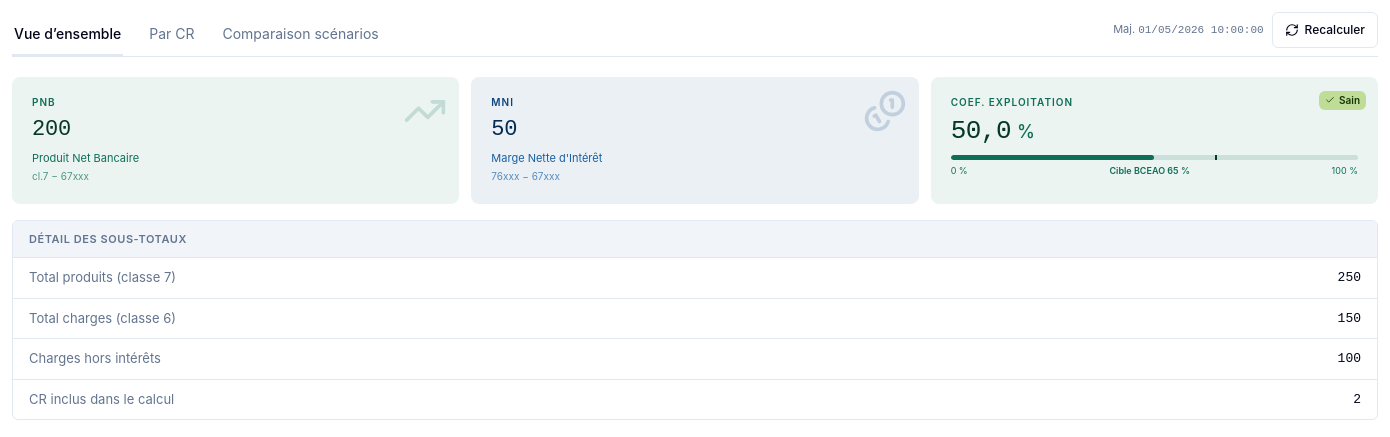
Test case: IndicateursContent › Comparaison sans scénario → empty state
Click the tab with test id "tab-comparaison": (301,34) [220, 14, 381, 54]
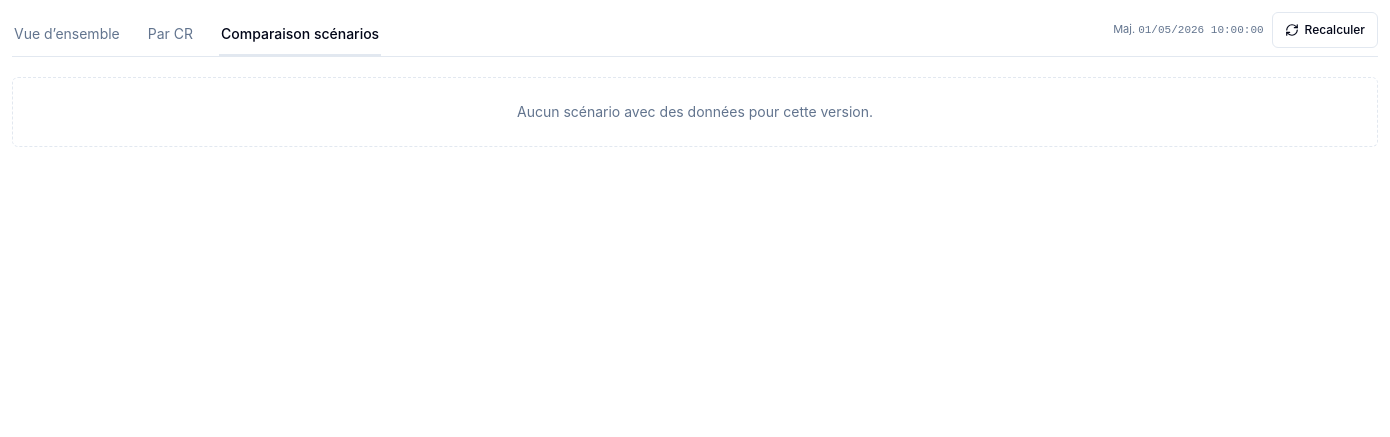
Expected: the text "Aucun scénario avec des données pour cette version." is shown, [12, 77, 1378, 147]
